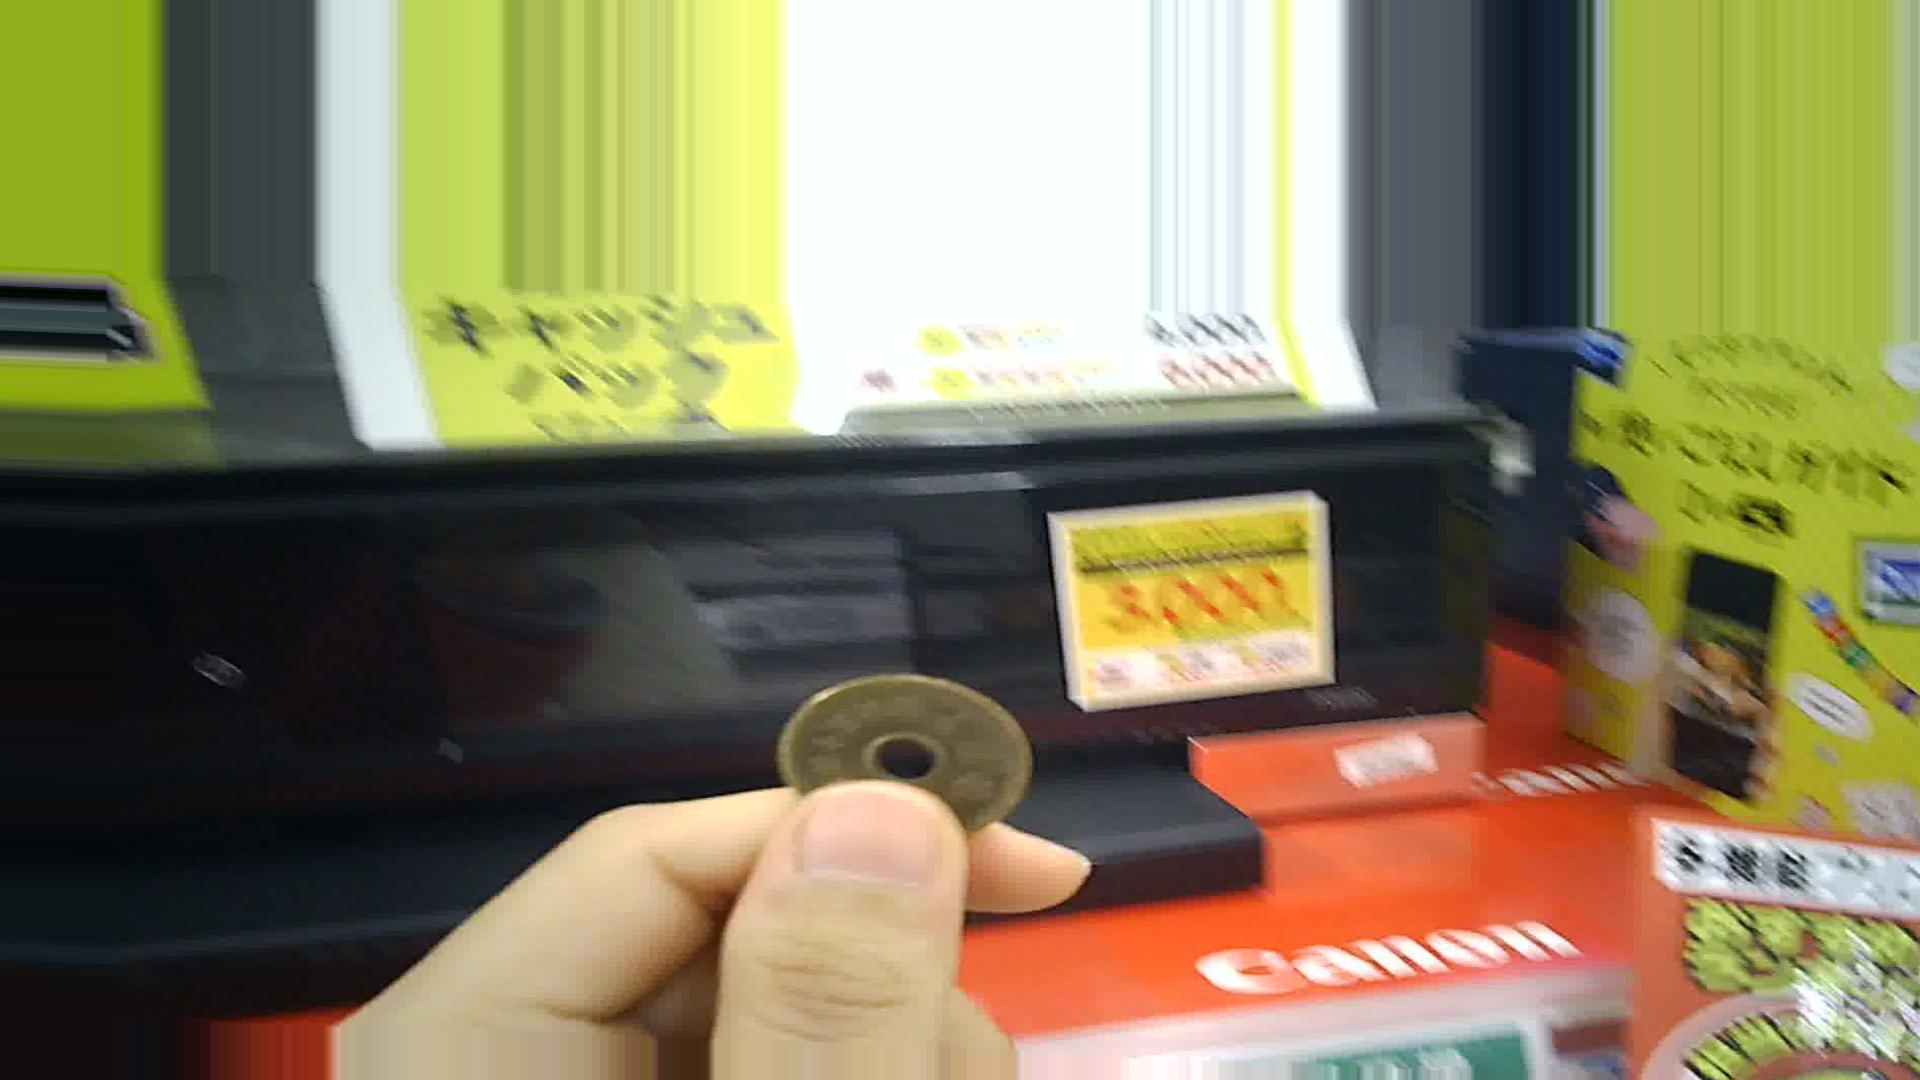5 Yen: (778, 670, 1021, 844)
